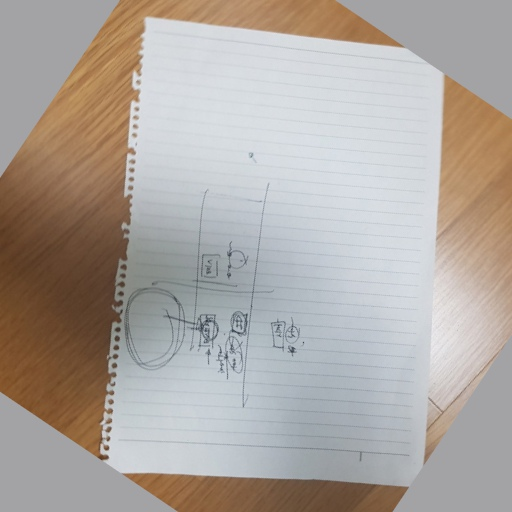Paper_2: (102, 10, 449, 512)
